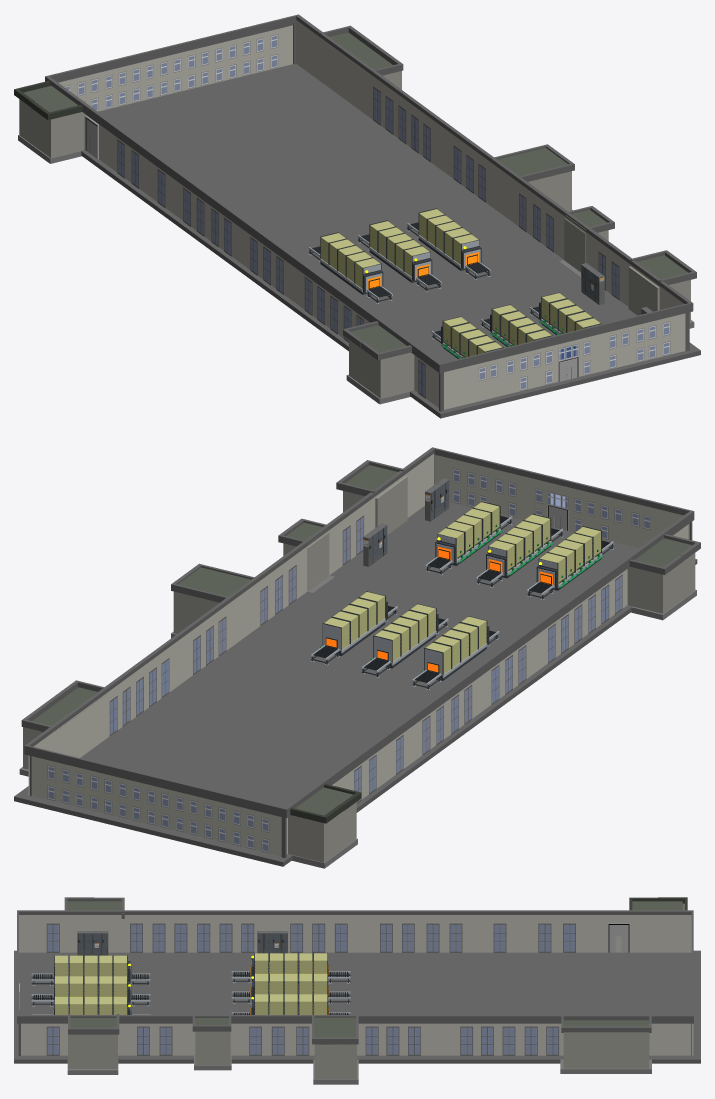
File: det.glb
3 renders of one model, top to bottom at view 1: azimuth 30°, elevation 25°; view 2: azimuth 150°, elevation 25°; view 3: azimuth 270°, elevation 25°, orthographic. The views are drawn at different scales.
Parts seen in each view (by area): view 1: stock_3465.006, Plane.976, Object3227.006, Plane.973, Plane.975, Plane, Plane.960, Plane.974, Cube.256, Plane351.004, Cube.250, Cube.249 (+8 smaller); view 2: stock_3465.006, Plane.976, Object3227.006, Plane.973, Plane, Plane.975, Plane.960, Plane.974, Cube.256, Plane351.004, Cube.250, Cube.249 (+12 smaller); view 3: stock_3465.006, Plane.973, Plane.976, Object3227.006, Cube.257, Cube.256, Cube.249, Cube.250, Plane351.004, box_Electricity_metallic__0.003, box_Electricity_metallic__0.004, Object4093.020 (+48 smaller).
Boxes of the visible parts, <box> form: stock_3465.006: <box>81,64,700,418</box>; Plane.976: <box>296,20,683,309</box>; Object3227.006: <box>45,14,693,373</box>; Plane.973: <box>86,115,438,407</box>; Plane.975: <box>444,313,685,409</box>; Plane: <box>58,25,292,111</box>; Plane.960: <box>19,99,85,158</box>; Plane.974: <box>349,340,414,398</box>; Cube.256: <box>628,266,690,322</box>; Plane351.004: <box>497,148,567,175</box>; Cube.250: <box>564,218,608,272</box>; Cube.249: <box>528,171,571,211</box>; stock_3465.006: <box>14,502,697,866</box>; Plane.976: <box>28,454,433,795</box>; Object3227.006: <box>24,447,694,818</box>; Plane.973: <box>286,524,688,854</box>; Plane: <box>32,756,281,856</box>; Plane.975: <box>434,454,689,548</box>; Plane.960: <box>288,802,356,862</box>; Plane.974: <box>627,553,695,613</box>; Cube.256: <box>343,476,407,534</box>; Plane351.004: <box>178,567,250,596</box>; Cube.250: <box>283,532,329,591</box>; Cube.249: <box>173,591,219,633</box>; stock_3465.006: <box>14,950,700,1063</box>; Plane.973: <box>19,915,691,952</box>; Plane.976: <box>21,1023,693,1055</box>; Object3227.006: <box>17,910,693,1023</box>; Cube.257: <box>563,1032,648,1068</box>; Cube.256: <box>68,1034,117,1068</box>; Cube.249: <box>314,1044,356,1078</box>; Cube.250: <box>195,1031,230,1064</box>; Plane351.004: <box>314,1017,355,1037</box>; box_Electricity_metallic__0.003: <box>77,931,108,956</box>; box_Electricity_metallic__0.004: <box>257,931,288,953</box>; Object4093.020: <box>561,1015,651,1032</box>.
Size of the model in its own units: 74.68 by 11.43 by 151.
100 materials, 3 textured.
